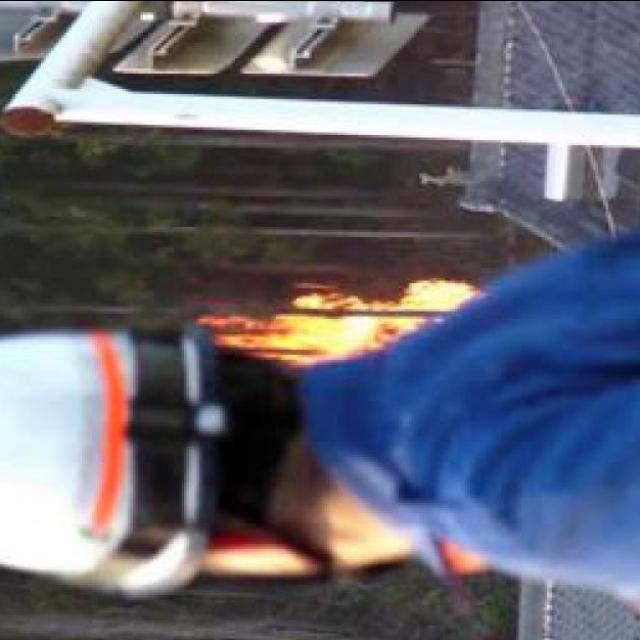Fire: (226, 276, 476, 354)
